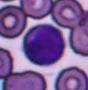L: (22, 23, 65, 66)
